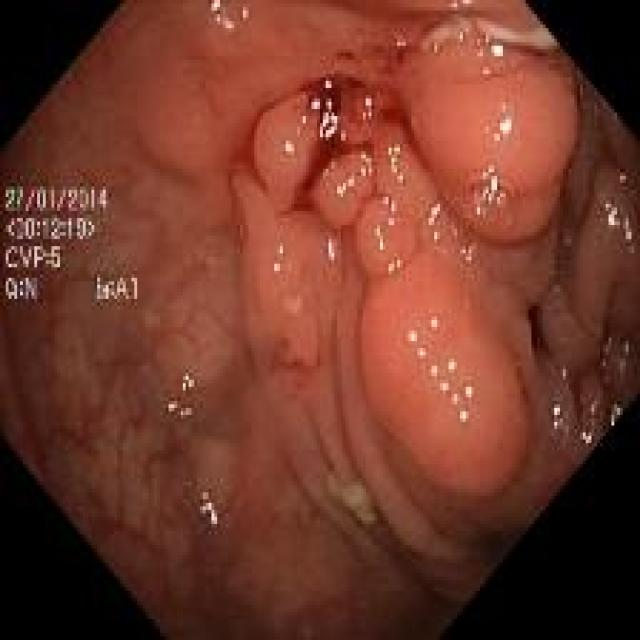Polyps: (361, 252, 529, 499), (411, 55, 579, 244), (254, 91, 320, 212), (372, 123, 440, 233), (355, 197, 419, 278), (311, 149, 375, 228), (255, 214, 302, 314)
